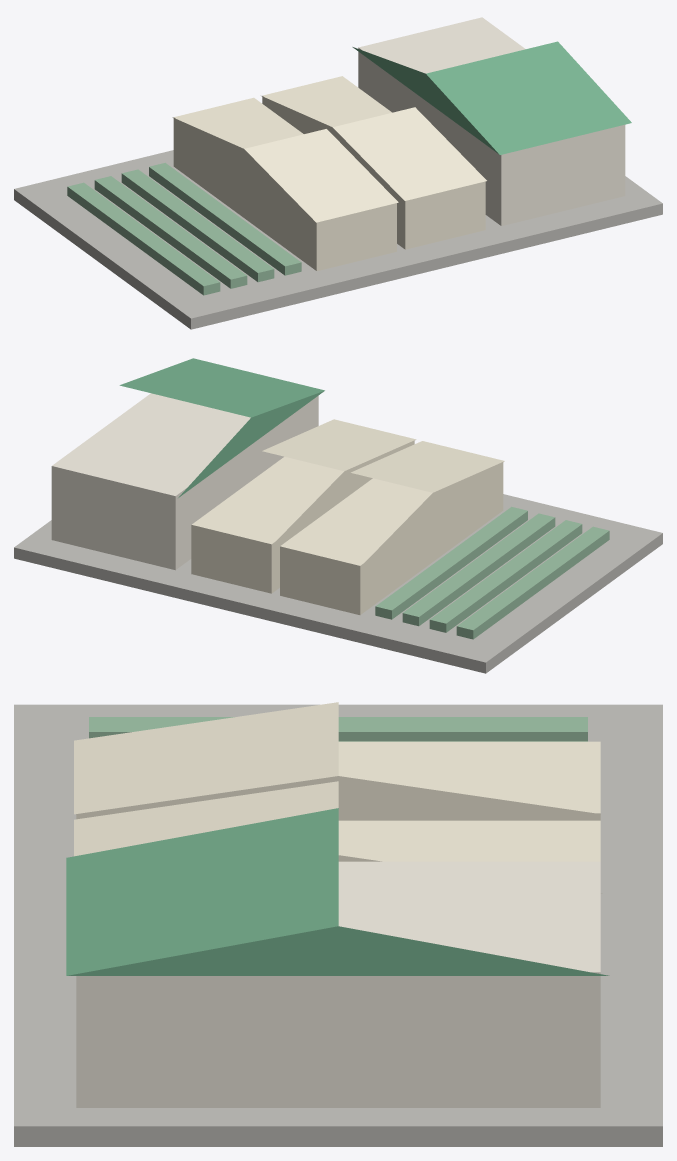
Rendered from lm_120_trang_trai_duoc_lieu_atiso_va_nha_say_tra_thao_moc_thai_phien_da_thien.glb.
3 renders of one model, top to bottom at view 1: azimuth 30°, elevation 25°; view 2: azimuth 150°, elevation 25°; view 3: azimuth 270°, elevation 25°, orthographic. The views are drawn at different scales.
Visible parts, largest first — view 1: lm_120_trang_trai_duoc_lieu_atiso_va_nha_say_tra_thao_moc_th; view 2: lm_120_trang_trai_duoc_lieu_atiso_va_nha_say_tra_thao_moc_th; view 3: lm_120_trang_trai_duoc_lieu_atiso_va_nha_say_tra_thao_moc_th.
Part boxes in pixels (<box>): lm_120_trang_trai_duoc_lieu_atiso_va_nha_say_tra_thao_moc_th: <box>14,17,662,329</box>; lm_120_trang_trai_duoc_lieu_atiso_va_nha_say_tra_thao_moc_th: <box>14,358,662,673</box>; lm_120_trang_trai_duoc_lieu_atiso_va_nha_say_tra_thao_moc_th: <box>14,702,662,1146</box>.
Bounding box in the file's own units: 40 × 9.1 × 26.
